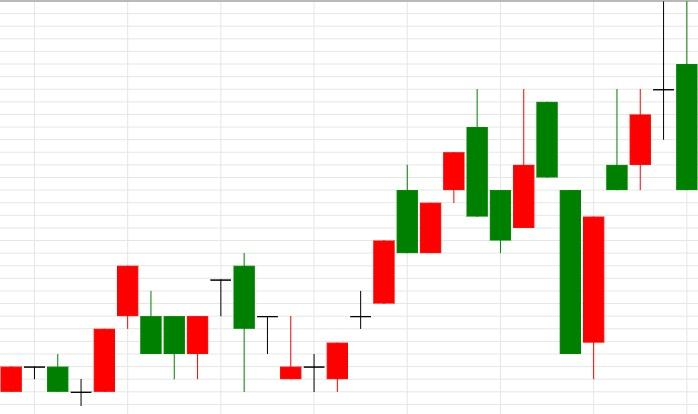bearish_engulfing_fall: (304, 90, 489, 392)
bullish_engulfing_rise: (116, 265, 210, 380)
inverse_hammer_rise: (232, 253, 303, 392)
shooting_star_fall: (559, 88, 629, 378)
